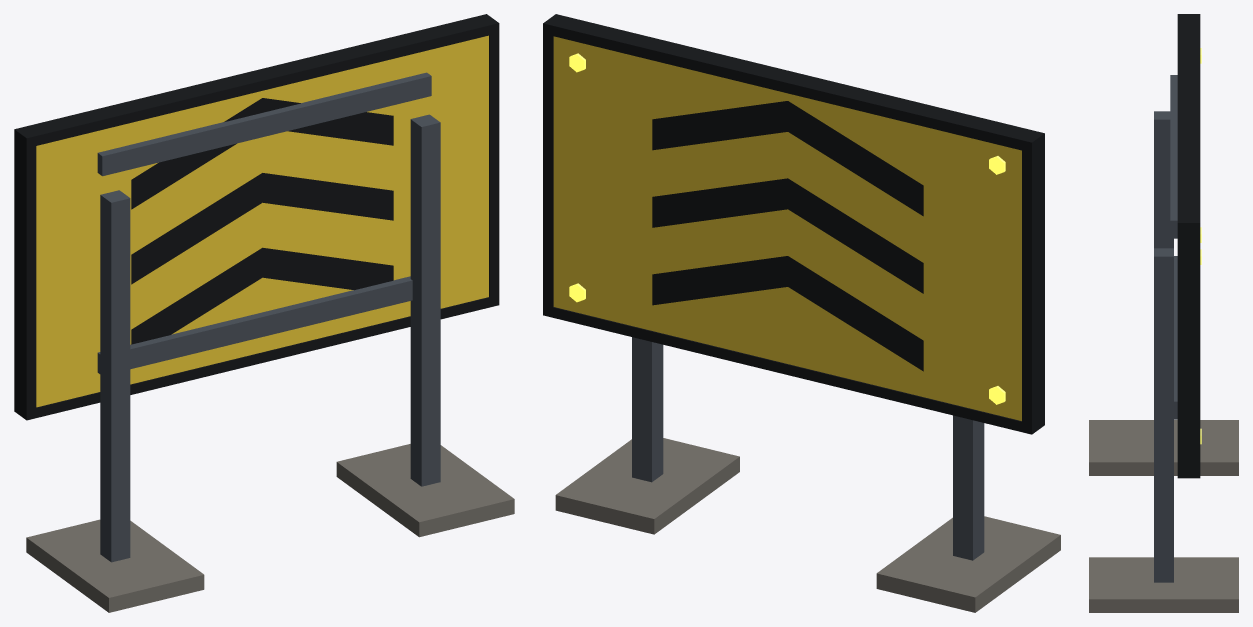
Rendered from stunt_ramp_sign.glb.
3 renders of one model, left to right at view 1: azimuth 30°, elevation 25°; view 2: azimuth 150°, elevation 25°; view 3: azimuth 270°, elevation 25°, orthographic. The views are drawn at different scales.
Parts seen in each view (by area): view 1: Body; view 2: Body; view 3: Body.
Part boxes in pixels (x1=…): Body: x1=14, y1=14, x2=514, y2=612; Body: x1=543, y1=14, x2=1060, y2=612; Body: x1=1089, y1=14, x2=1238, y2=612.
Size of the model in its own units: 1.98 by 1.79 by 0.6.
